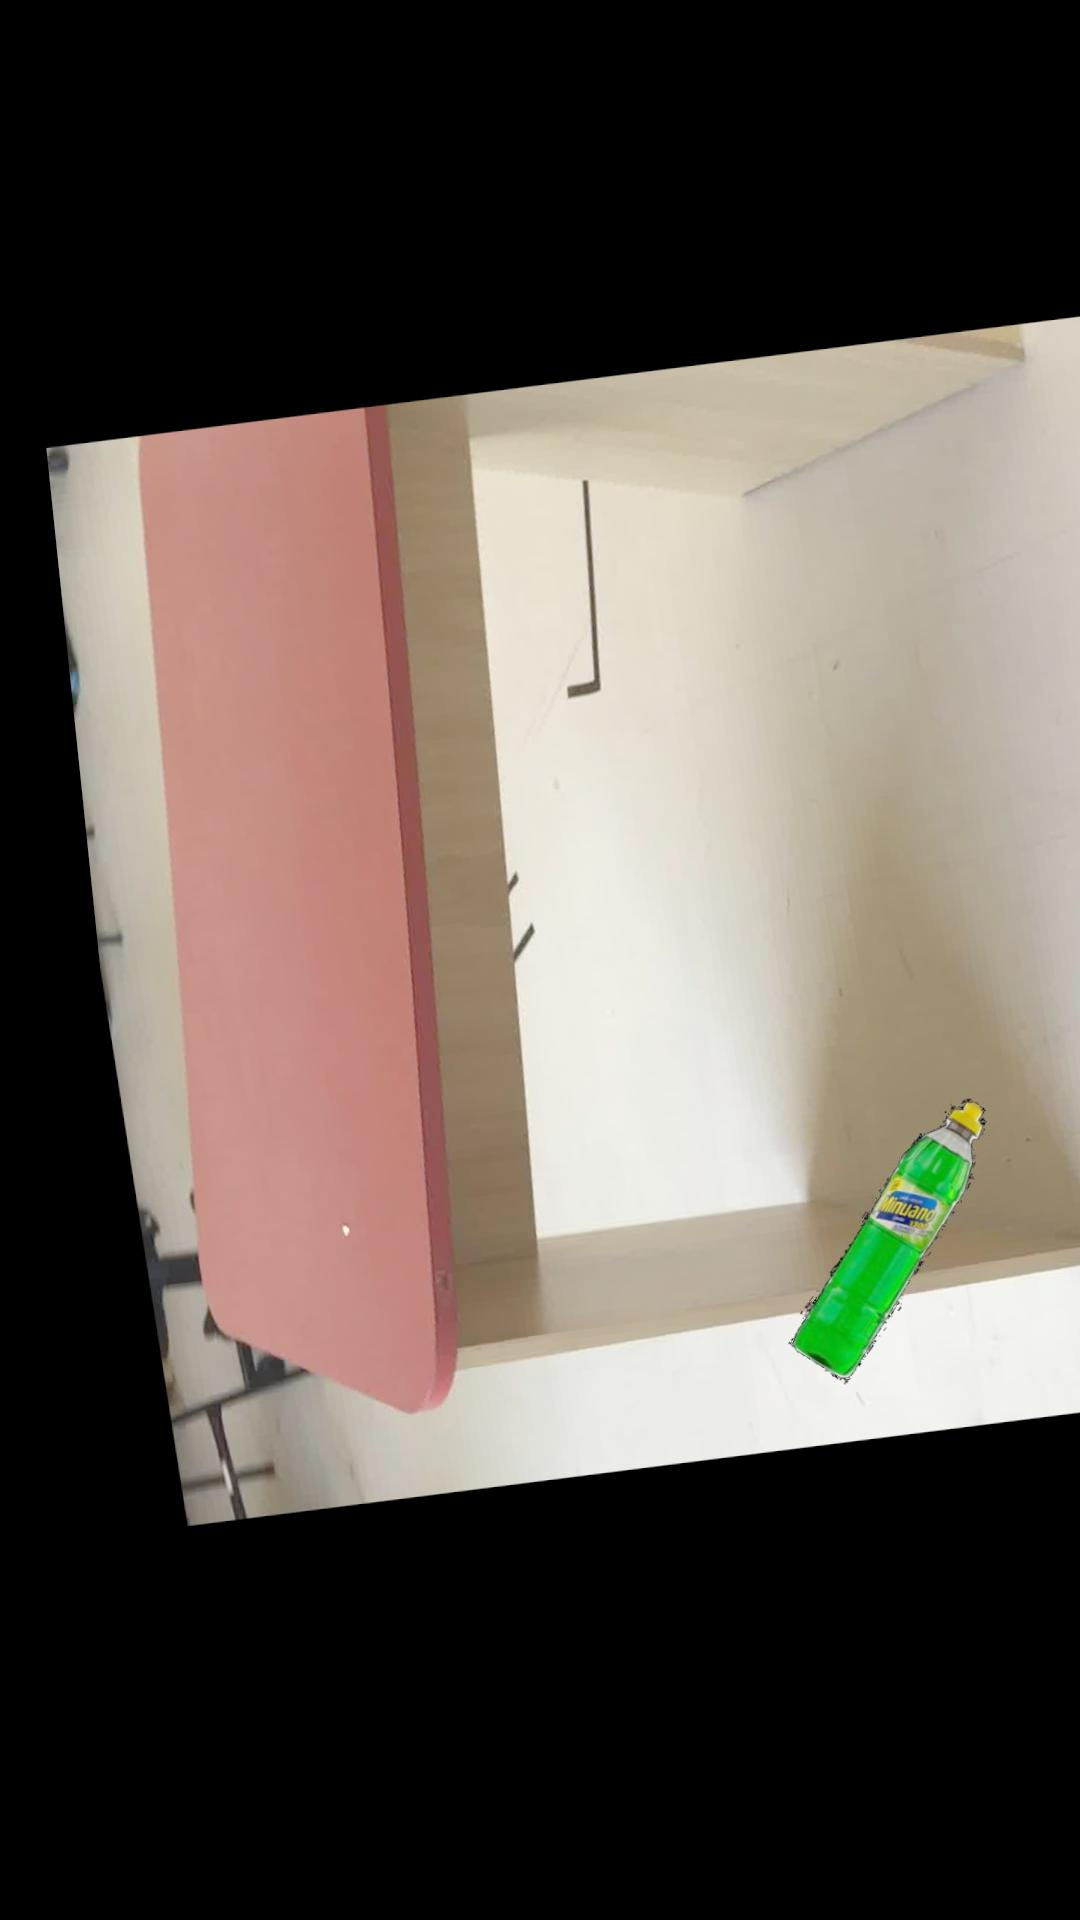cleaner: (757, 1110, 957, 1393)
